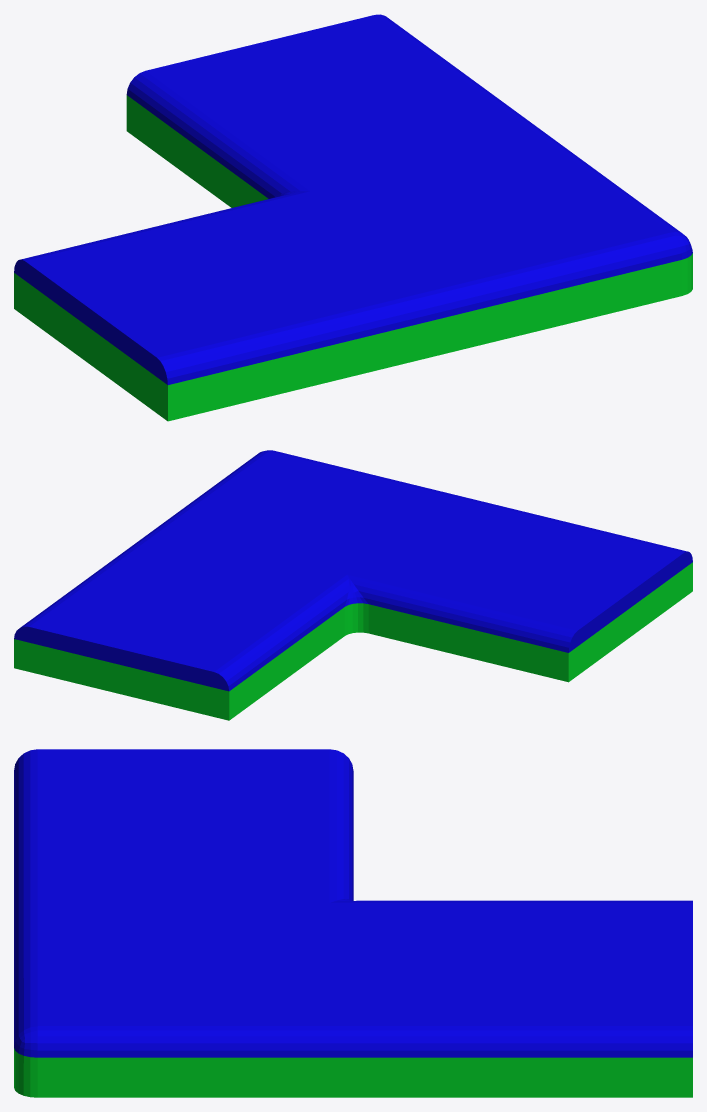
3 views of the same model, one above another, from view 1: azimuth 30°, elevation 25°; view 2: azimuth 150°, elevation 25°; view 3: azimuth 270°, elevation 25° (orthographic). The views are drawn at different scales.
Visible parts, largest first — view 1: plank16; view 2: plank16; view 3: plank16.
Boxes of the visible parts, x1=… form: plank16: x1=14, y1=14, x2=692, y2=421; plank16: x1=14, y1=450, x2=692, y2=720; plank16: x1=14, y1=749, x2=692, y2=1097.
Size of the model in its own units: 1000 by 100 by 1000.
